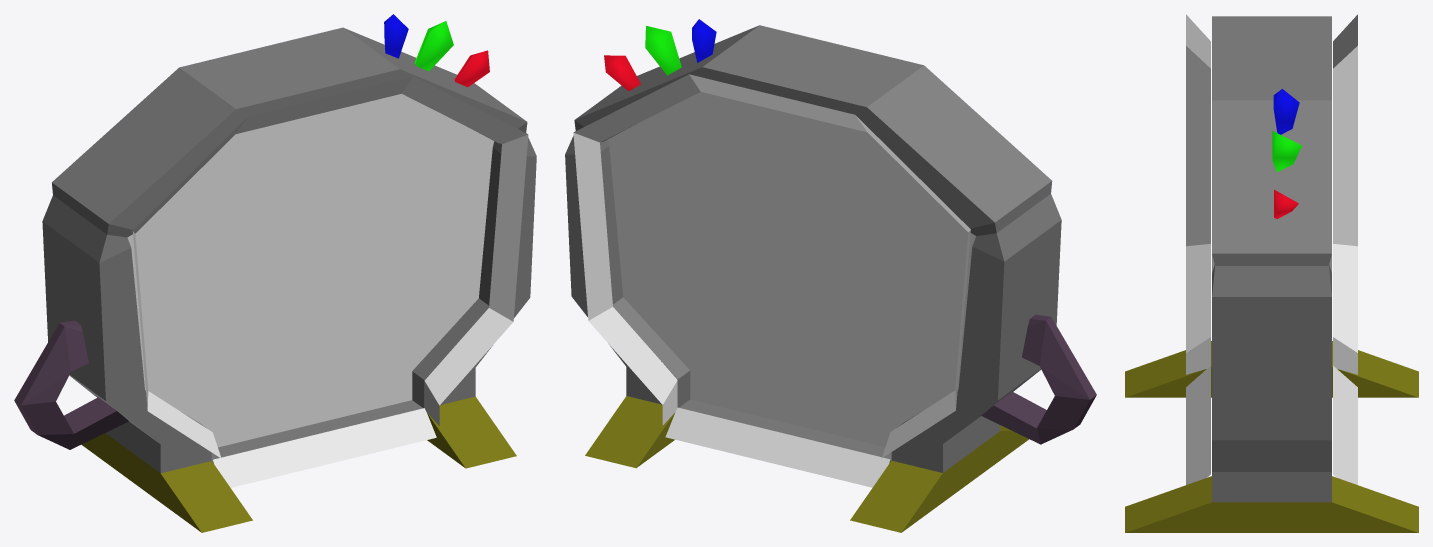
File: LevelEntrancePortal.glb
3 renders of one model, left to right at view 1: azimuth 30°, elevation 25°; view 2: azimuth 150°, elevation 25°; view 3: azimuth 270°, elevation 25°, orthographic. The views are drawn at different scales.
Visible parts, largest first — view 1: PortalSurface, Frame_detail, LightRays, Hose-convcol, LEDGreen, LEDRed, LEDBlue; view 2: PortalSurface, Frame_detail, LightRays, Hose-convcol, LEDGreen, LEDRed, LEDBlue; view 3: Frame_detail, LightRays, LEDBlue, LEDGreen, LEDRed.
Part boxes in pixels (x1=…): PortalSurface: x1=127, y1=94, x2=494, y2=447; Frame_detail: x1=42, y1=27, x2=536, y2=532; LightRays: x1=132, y1=76, x2=528, y2=487; Hose-convcol: x1=14, y1=320, x2=128, y2=449; LEDGreen: x1=414, y1=21, x2=453, y2=71; LEDRed: x1=454, y1=50, x2=489, y2=87; LEDBlue: x1=384, y1=14, x2=408, y2=58; PortalSurface: x1=608, y1=92, x2=975, y2=446; Frame_detail: x1=565, y1=25, x2=1061, y2=532; LightRays: x1=573, y1=74, x2=970, y2=487; Hose-convcol: x1=981, y1=314, x2=1096, y2=444; LEDGreen: x1=645, y1=26, x2=681, y2=75; LEDRed: x1=604, y1=55, x2=640, y2=91; LEDBlue: x1=692, y1=19, x2=716, y2=62; Frame_detail: x1=1125, y1=16, x2=1418, y2=532; LightRays: x1=1186, y1=14, x2=1357, y2=484; LEDBlue: x1=1273, y1=89, x2=1299, y2=134; LEDGreen: x1=1272, y1=130, x2=1301, y2=171; LEDRed: x1=1274, y1=189, x2=1298, y2=219.
Size of what is drawn, in the model's own units: 8.16 by 6.3 by 4.
